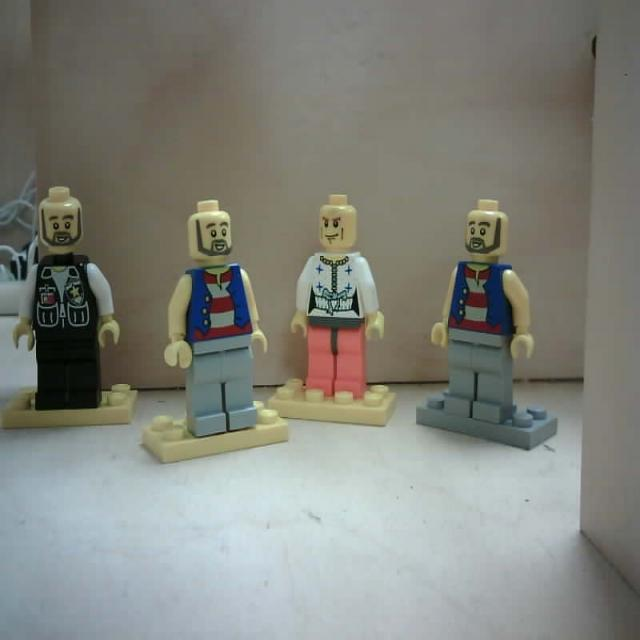Lego-People: (426, 193, 539, 429), (10, 183, 123, 418), (161, 192, 269, 437), (289, 184, 387, 407)
